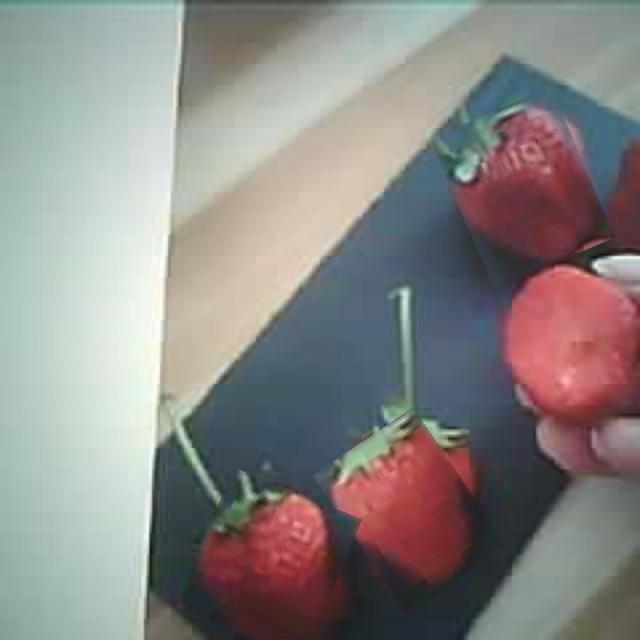strawberry: (331, 418, 488, 604), (443, 97, 601, 279), (189, 477, 351, 640)
